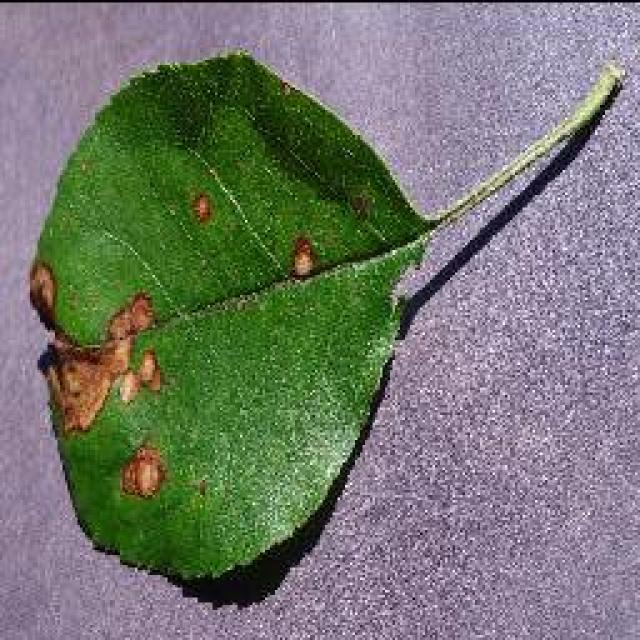apple black rot: (25, 45, 625, 597)
